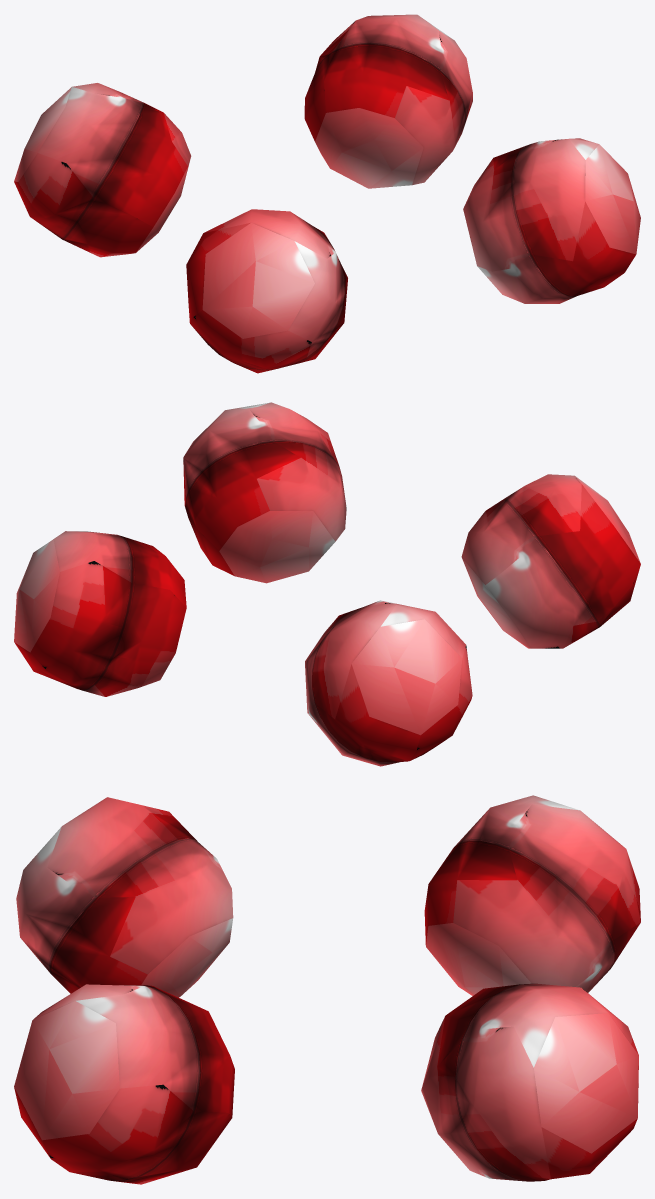
File: led_off.glb
The picture shows the model from 3 angles, top to bottom: view 1: azimuth 30°, elevation 25°; view 2: azimuth 150°, elevation 25°; view 3: azimuth 270°, elevation 25°; orthographic projection. The views are drawn at different scales.
Parts seen in each view (by area): view 1: Cube.005; view 2: Cube.005; view 3: Cube.005.
Part boxes in pixels (box(x1,y1,x2,y2)): Cube.005: box(14, 14, 640, 373); Cube.005: box(14, 402, 640, 766); Cube.005: box(14, 795, 640, 1184).
Bounding box in the file's own units: 1.55 × 0.5348 × 1.52.
1 material, 1 textured.
